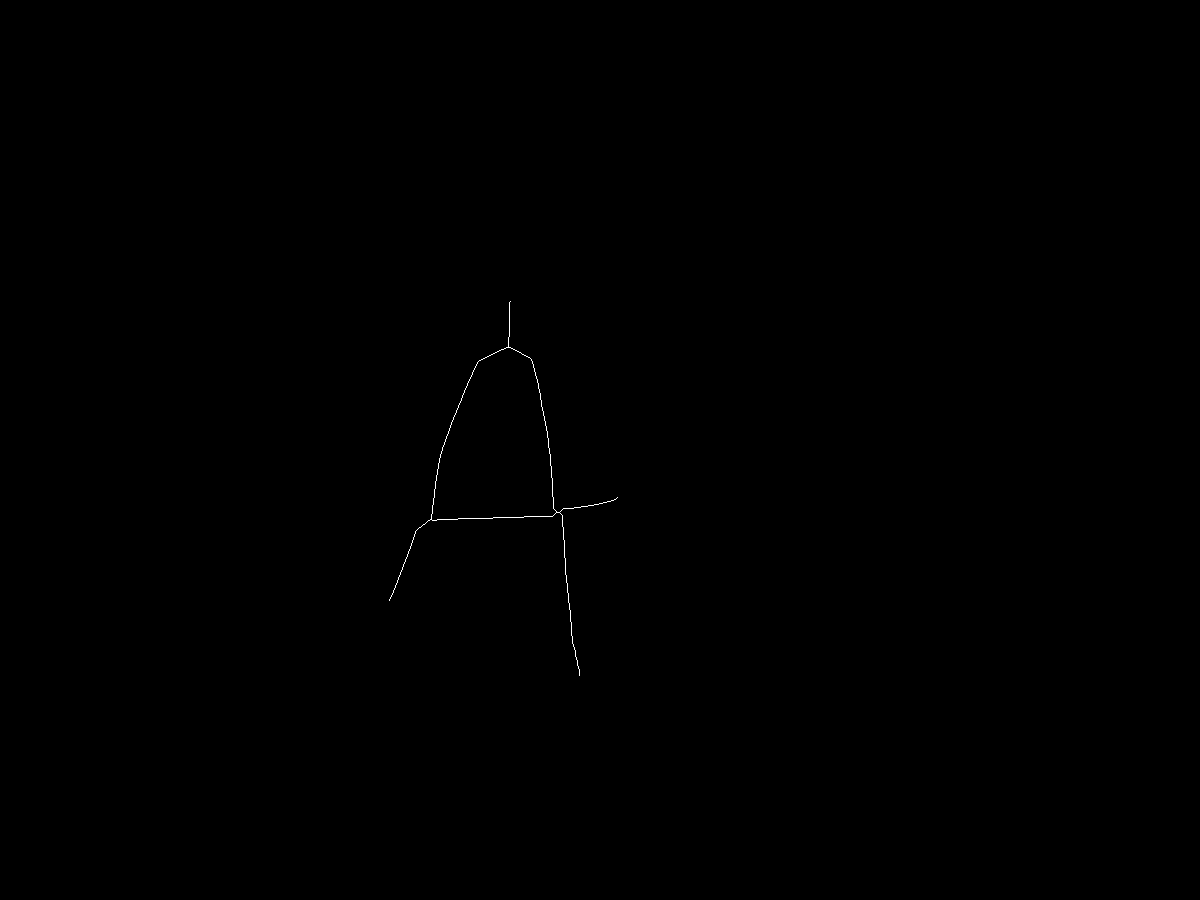dian1: (504, 343, 516, 355)
dian2: (426, 513, 440, 527)
dian3: (387, 594, 403, 610)
dian4: (551, 506, 569, 524)
dian5: (570, 668, 589, 687)
